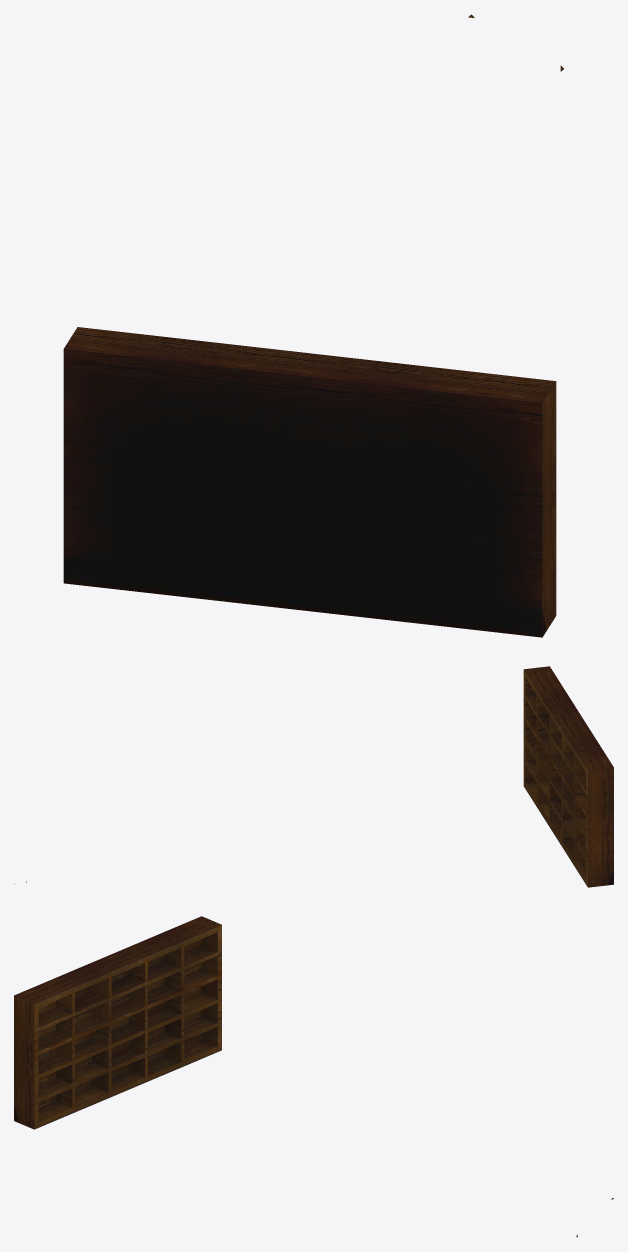
The model's file is Cabinets-transformed.glb.
3 renders of one model, top to bottom at view 1: azimuth 30°, elevation 25°; view 2: azimuth 150°, elevation 25°; view 3: azimuth 270°, elevation 25°, orthographic. The views are drawn at different scales.
Visible parts, largest first — view 1: CabinetNew; view 2: CabinetNew; view 3: CabinetNew.
Part boxes in pixels (x1,y1,x2,y2): CabinetNew: [63, 14, 563, 637]; CabinetNew: [14, 666, 613, 887]; CabinetNew: [14, 916, 613, 1237].
Bounding box in the file's own units: 4.56 × 1.2 × 5.2.
Materials: 1 (1 with a texture image).
